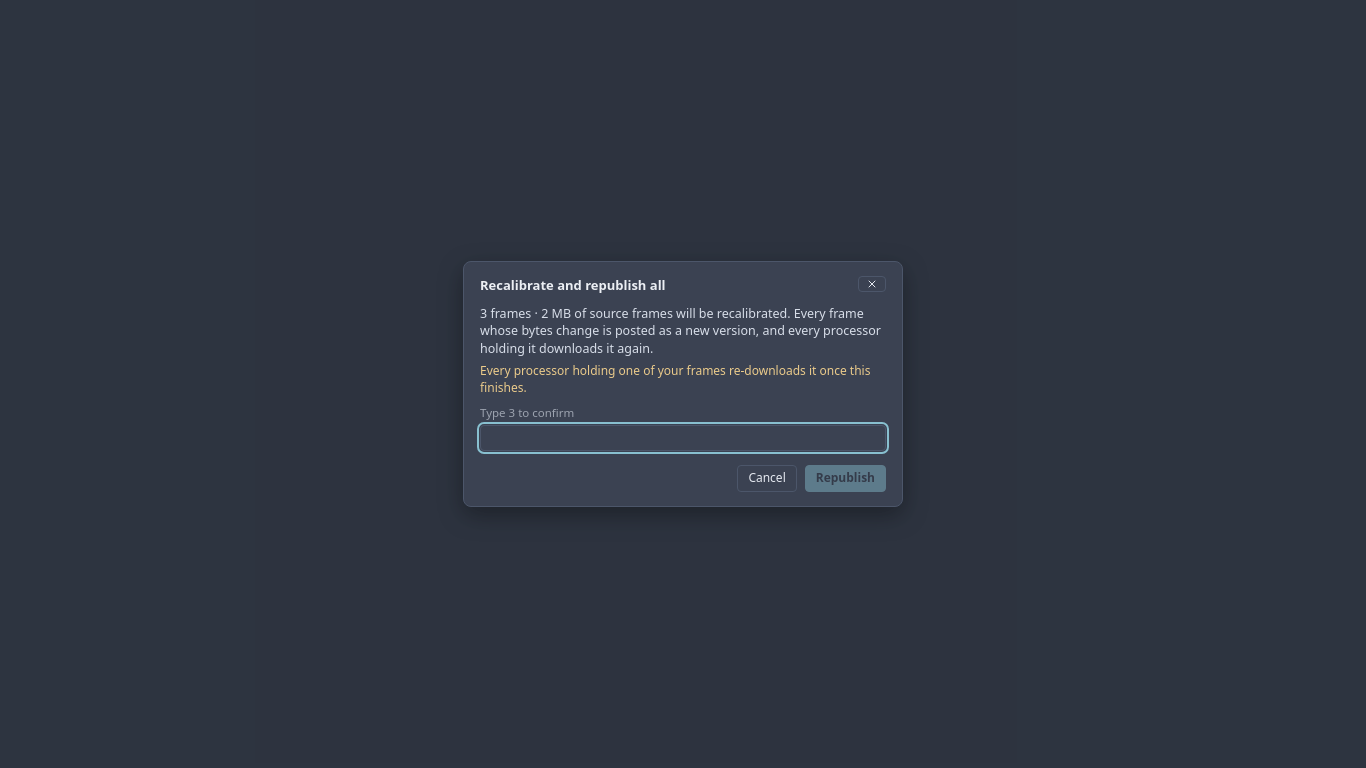
Test case: RepublishGuardDialog › "all" always needs the typed count, even for a few frames, under its own title
Expected: the heading "Recalibrate and republish all" is shown, [480,276,666,294]
Expected: the button "Republish" is disabled, [805,465,886,492]
Type " 3 " into the field labelled "Type 3 to confirm".
click(683, 438); type(" 3 ")  # box [480,425,886,451]
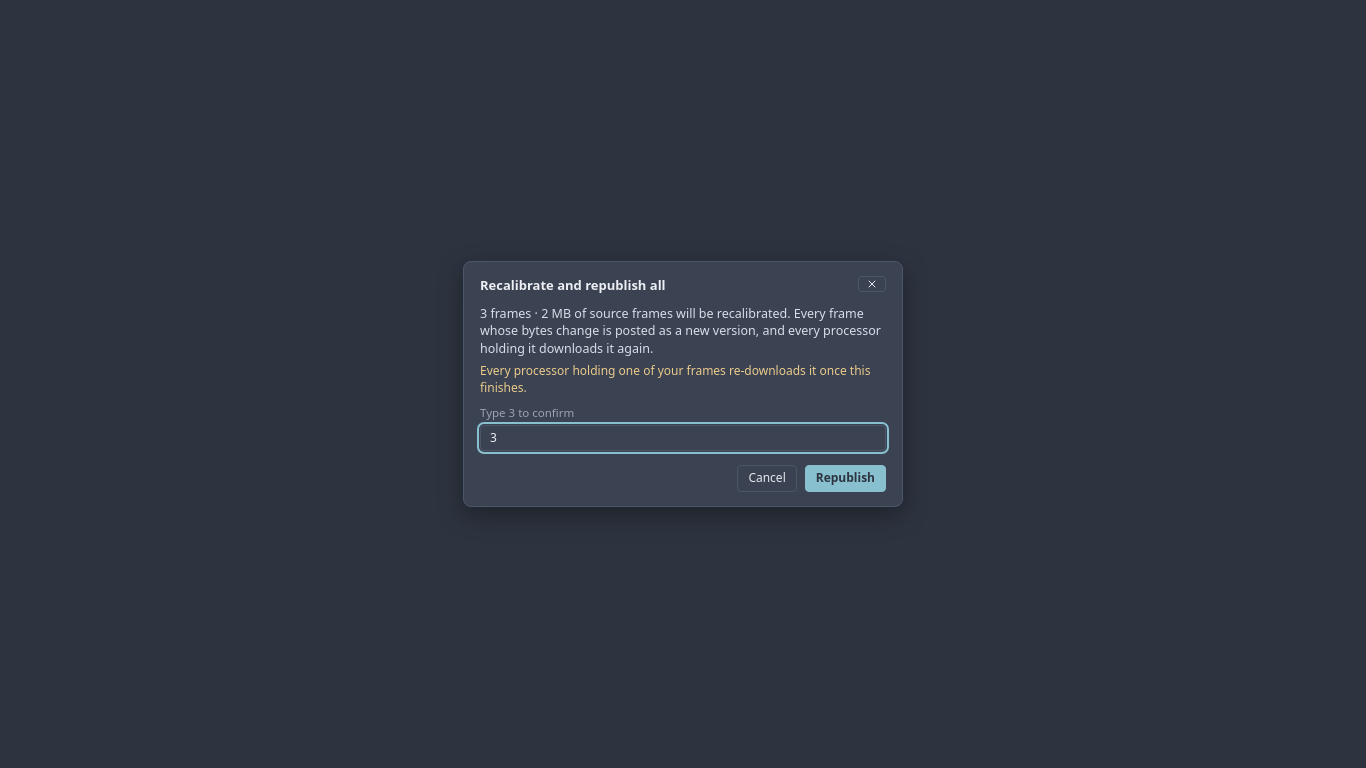
Expected: the button "Republish" is enabled, [805,465,886,492]
